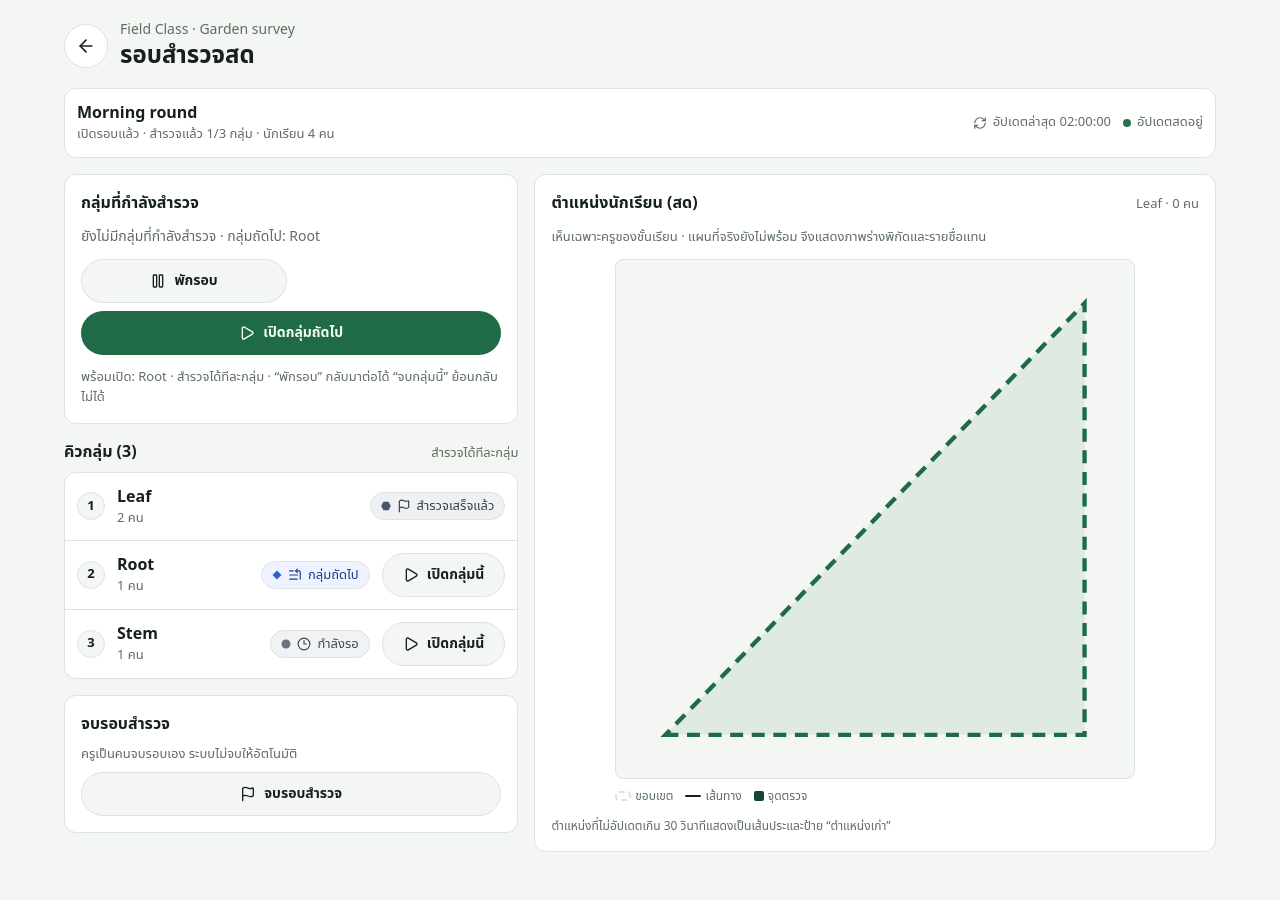
Test: TeacherSessionLive › explains an activation conflict after refetching the queue
The image size is (1280, 900).
Click the button "เปิดกลุ่มถัดไป": (291, 332) [81,310,501,354]
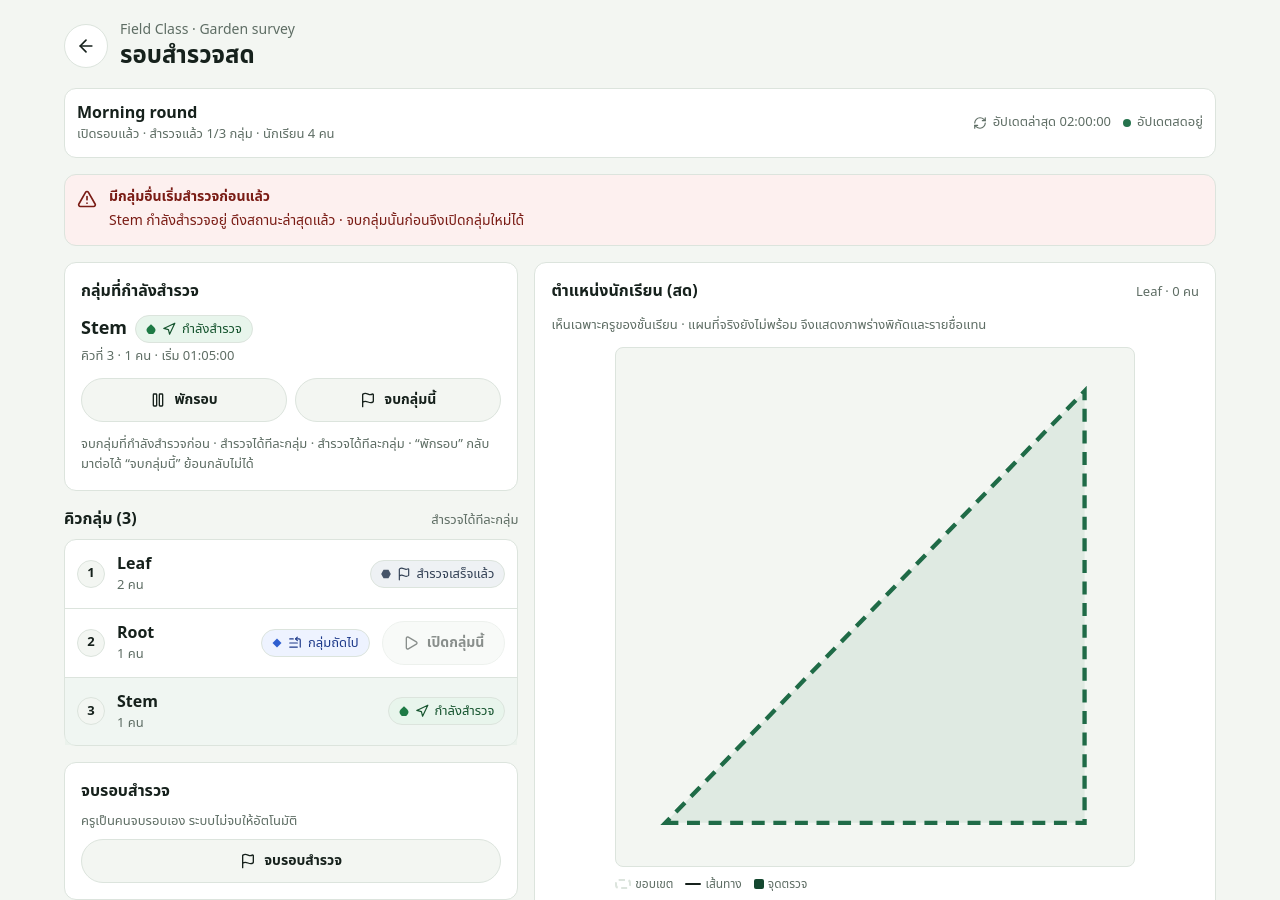
Expected: the message that starts with "มีกลุ่มอื่นเริ่มสำรวจก่อนแล้ว" is shown, [109,186,270,206]
Expected: the message that starts with "มีกลุ่มอื่นเริ่มสำรวจก่อนแล้ว" shows "Stem กำลังสำรวจอยู่ ดึงสถานะล่าสุดแล้ว · จบกลุ่มนั้นก่อนจึงเปิดกลุ่มใหม่ได้", [109,210,524,230]
Expected: the list item with aria-label "คิวที่ 3 Stem" shows "กำลังสำรวจ", [434,701,494,721]
